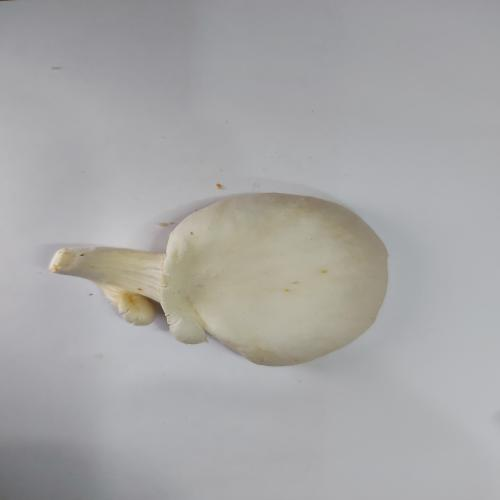Oyster Mushroom: (48, 191, 390, 367)
